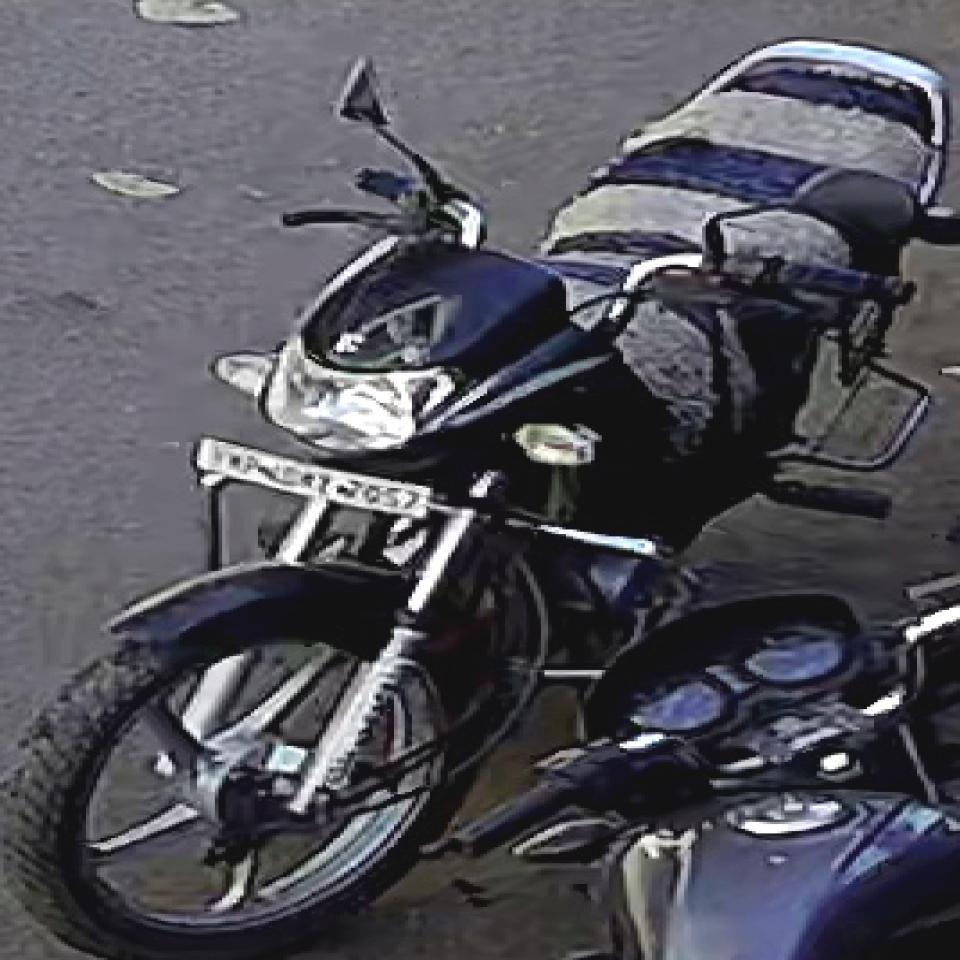head_light: (240, 337, 450, 459)
